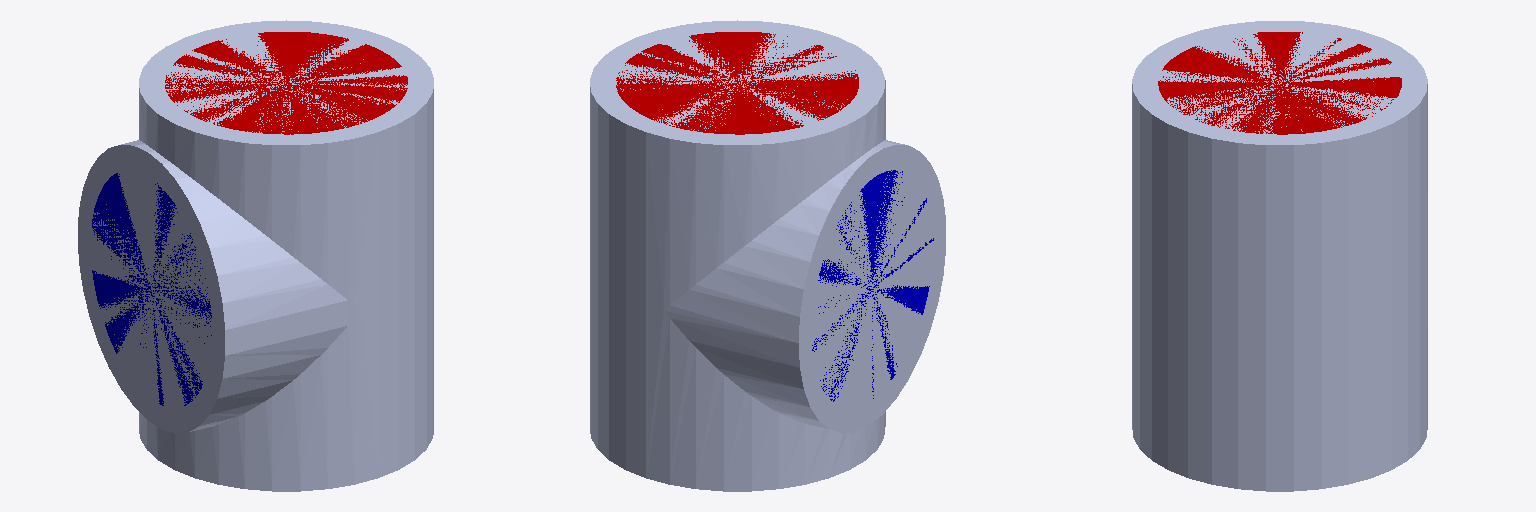
robot.urdf — joint-T-l.SLDASM:
<?xml version="1.0" encoding="utf-8"?>
<!-- This URDF was automatically created by SolidWorks to URDF Exporter! Originally created by [author] ([email redacted]) 
     Commit Version: 1.6.0-4-g7f85cfe  Build Version: 1.6.7995.38578
     For more information, please see http://wiki.ros.org/sw_urdf_exporter -->
<robot
  name="joint-T-l.SLDASM">
  <link
    name="j_virtual_Link_1">
    <inertial>
      <origin
        xyz="1.5266E-18 -0.0036667 -1.9593E-09"
        rpy="0 0 0" />
      <mass
        value="4.5" />
      <inertia
        ixx="0.0080585"
        ixy="-1.8485E-18"
        ixz="-3.965E-10"
        iyy="0.011581"
        iyz="-1.6443E-10"
        izz="0.011883" />
    </inertial>
    <visual>
      <origin
        xyz="0 0 0"
        rpy="0 0 0" />
      <geometry>
        <mesh
          filename="package://joint-T-l.SLDASM/meshes/j_virtual_Link_1.STL" />
      </geometry>
      <material
        name="">
        <color
          rgba="0.79216 0 0 1" />
      </material>
    </visual>
    <collision>
      <origin
        xyz="0 0 0"
        rpy="0 0 0" />
      <geometry>
        <mesh
          filename="package://joint-T-l.SLDASM/meshes/j_virtual_Link_1.STL" />
      </geometry>
    </collision>
  </link>
  <link
    name="j_body_Link">
    <inertial>
      <origin
        xyz="1.52664311235792E-18 -0.0036666955828649 -1.95928421400108E-09"
        rpy="0 0 0" />
      <mass
        value="4.5" />
      <inertia
        ixx="0.00805845360293144"
        ixy="-1.8484514920056E-18"
        ixz="-3.96496819617181E-10"
        iyy="0.0115814093224894"
        iyz="-1.64429599543498E-10"
        izz="0.0118834658362195" />
    </inertial>
    <visual>
      <origin
        xyz="0 0 0"
        rpy="0 0 0" />
      <geometry>
        <mesh
          filename="package://joint-T-l.SLDASM/meshes/j_body_Link.STL" />
      </geometry>
      <material
        name="">
        <color
          rgba="0.792156862745098 0.819607843137255 0.933333333333333 1" />
      </material>
    </visual>
    <collision>
      <origin
        xyz="0 0 0"
        rpy="0 0 0" />
      <geometry>
        <mesh
          filename="package://joint-T-l.SLDASM/meshes/j_body_Link.STL" />
      </geometry>
    </collision>
  </link>
  <joint
    name="j_revolute_joint"
    type="revolute">
    <origin
      xyz="0 0 0"
      rpy="0 0 0" />
    <parent
      link="j_virtual_Link_1" />
    <child
      link="j_body_Link" />
    <axis
      xyz="0 0 -1" />
    <limit
      lower="-3.14"
      upper="3.14"
      effort="60.5"
      velocity="0.33" />
  </joint>
  <link
    name="j_virtual_Link_2">
    <inertial>
      <origin
        xyz="1.5266E-18 -0.0036667 -1.9593E-09"
        rpy="0 0 0" />
      <mass
        value="4.5" />
      <inertia
        ixx="0.0080585"
        ixy="-1.8485E-18"
        ixz="-3.965E-10"
        iyy="0.011581"
        iyz="-1.6443E-10"
        izz="0.011883" />
    </inertial>
    <visual>
      <origin
        xyz="0 0 0"
        rpy="0 0 0" />
      <geometry>
        <mesh
          filename="package://joint-T-l.SLDASM/meshes/j_virtual_Link_2.STL" />
      </geometry>
      <material
        name="">
        <color
          rgba="0 0 0.93333 1" />
      </material>
    </visual>
    <collision>
      <origin
        xyz="0 0 0"
        rpy="0 0 0" />
      <geometry>
        <mesh
          filename="package://joint-T-l.SLDASM/meshes/j_virtual_Link_2.STL" />
      </geometry>
    </collision>
  </link>
  <joint
    name="j_fixed_joint"
    type="fixed">
    <origin
      xyz="-0.06 0 -0.0735"
      rpy="0 1.5707963267949 0" />
    <parent
      link="j_body_Link" />
    <child
      link="j_virtual_Link_2" />
    <axis
      xyz="0 0 0" />
    <limit
      lower="-3.14"
      upper="3.14"
      effort="60.5"
      velocity="0.33" />
  </joint>
</robot>

--- Render facts (derived) ---
3 views of the same robot in one strip: view 1: azimuth 30°, elevation 25°; view 2: azimuth 150°, elevation 25°; view 3: azimuth 270°, elevation 25° (orthographic).
Robot: joint-T-l.SLDASM — 3 links, 2 joints (1 revolute, 1 fixed); root link j_virtual_Link_1; default pose: all joints at 0.
Links seen in each view (by area): view 1: j_body_Link, j_virtual_Link_1, j_virtual_Link_2; view 2: j_body_Link, j_virtual_Link_1, j_virtual_Link_2; view 3: j_body_Link, j_virtual_Link_1.
Link boxes in pixels (x1,y1,x2,y2): j_body_Link: (78, 20, 433, 491); j_virtual_Link_1: (165, 32, 407, 134); j_virtual_Link_2: (92, 173, 211, 405); j_body_Link: (590, 20, 945, 491); j_virtual_Link_1: (616, 32, 858, 134); j_virtual_Link_2: (812, 170, 933, 401); j_body_Link: (1132, 21, 1427, 491); j_virtual_Link_1: (1158, 32, 1401, 134).
Size in the robot's own frame: 0.1167 by 0.114 by 0.147 metres.
3 mesh visuals loaded from 3 distinct referenced files (3 binary STL).